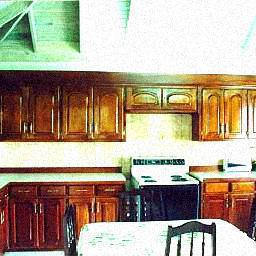Electrodomestico: (137, 176, 200, 216)
